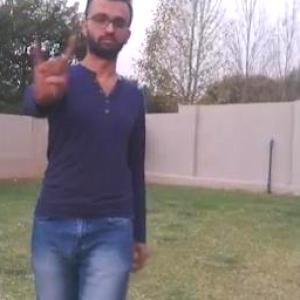takeoff-hand: (22, 26, 81, 109)
